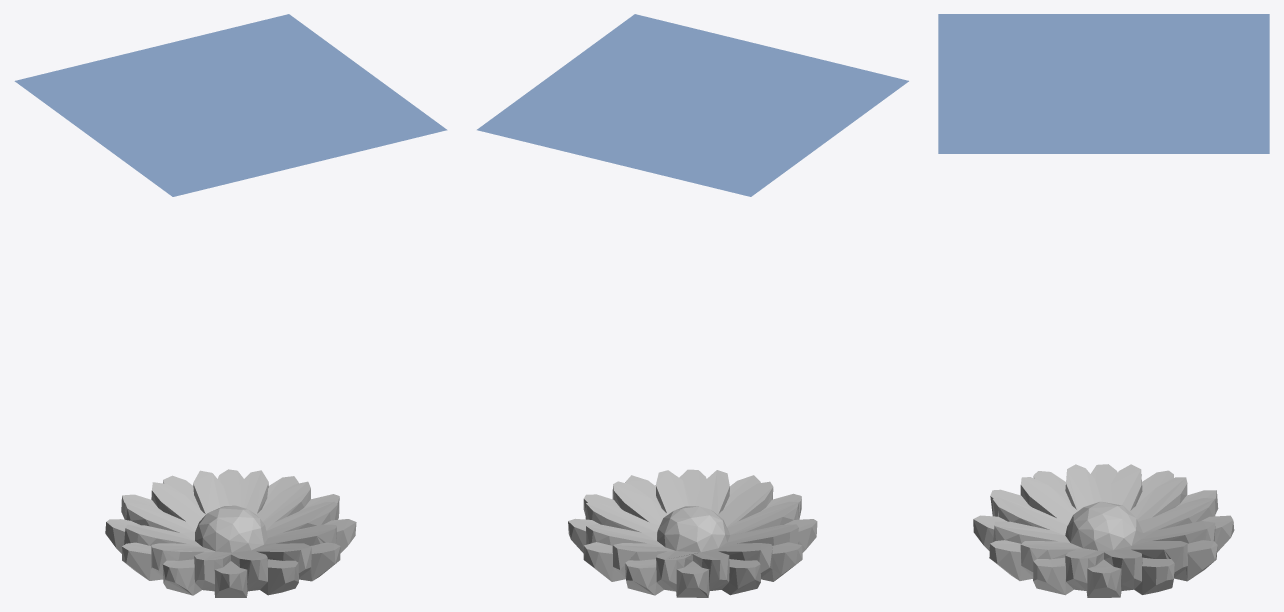
The model's file is init.glb.
The picture shows the model from 3 angles, left to right: view 1: azimuth 30°, elevation 25°; view 2: azimuth 150°, elevation 25°; view 3: azimuth 270°, elevation 25°; orthographic projection. The views are drawn at different scales.
Parts seen in each view (by area): view 1: world, object.obj; view 2: world, object.obj; view 3: world, object.obj.
Boxes of the visible parts, x1,y1,x2,y2 form: world: (14,14,447,196); object.obj: (105,469,356,597); world: (477,14,908,196); object.obj: (568,469,817,597); world: (938,14,1269,153); object.obj: (973,464,1234,597).
Bounding box in the file's own units: 0.6394 × 0.9992 × 0.6394.
